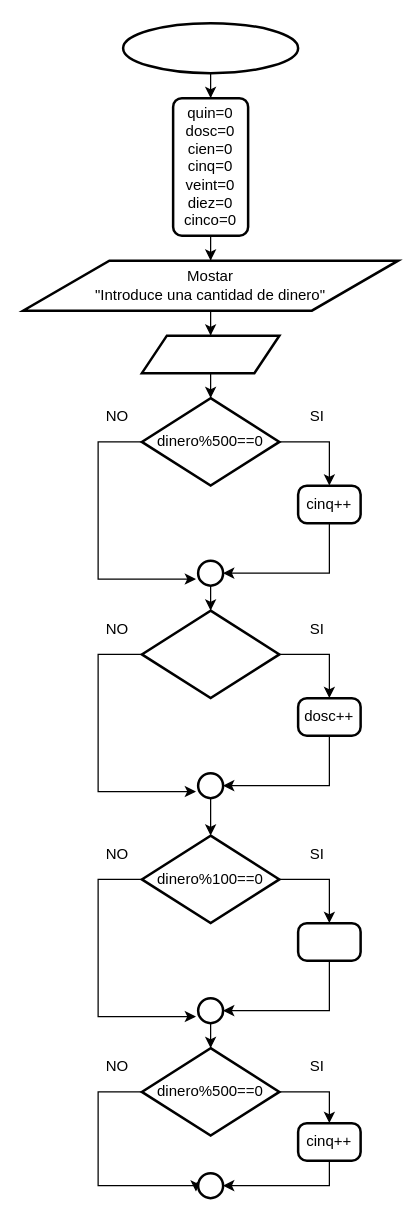
This 420x1224 diagram has some shape labels left out. The centre of each missing label's shape, as x and y in pixels:
"cien++" goes at point (328, 941).
"dinero%200==0" goes at point (210, 654).
"INICIO" goes at point (210, 47).
"LEER dinero" goes at point (210, 354).
